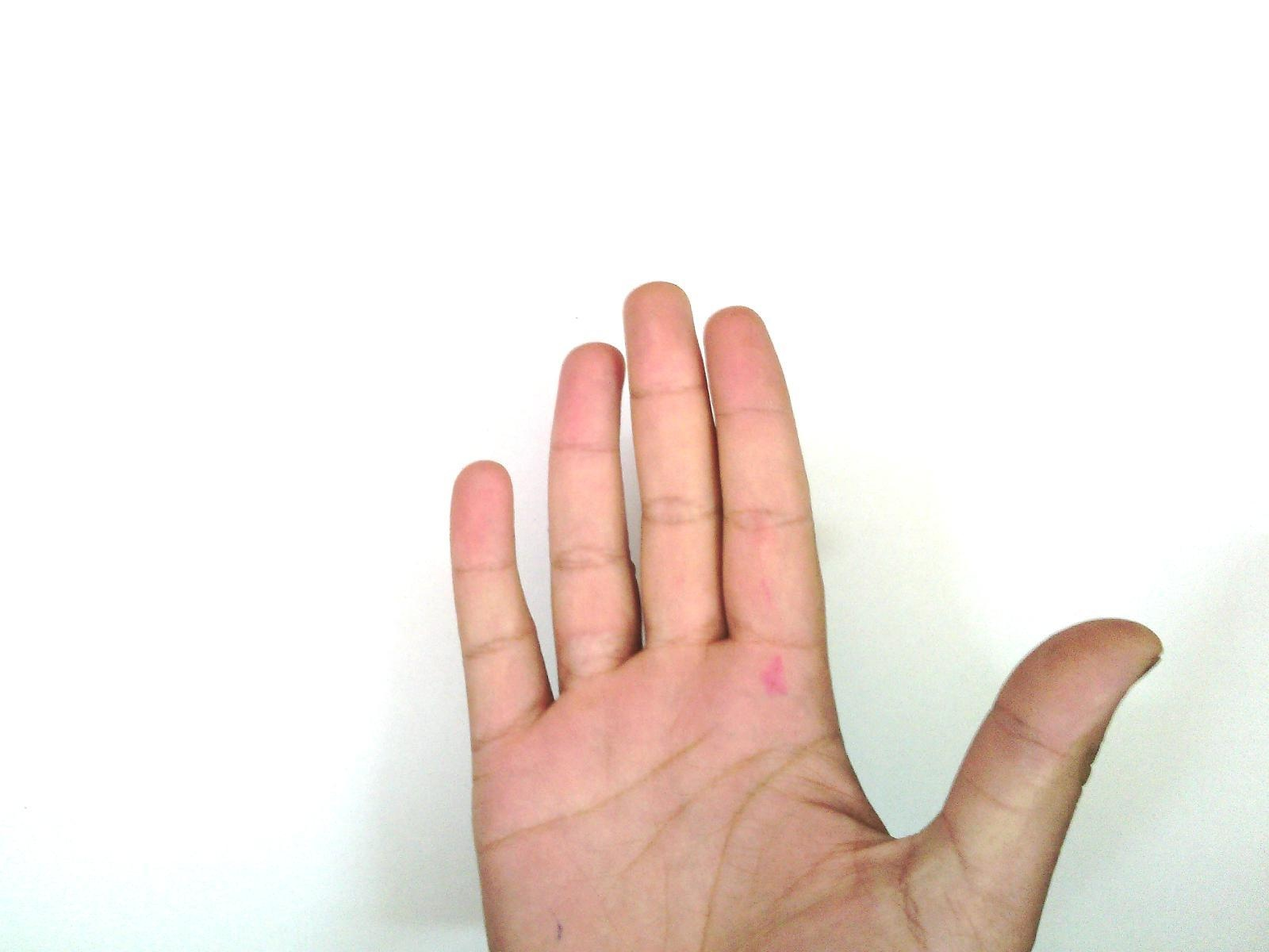open_palm: (445, 280, 1165, 951)
